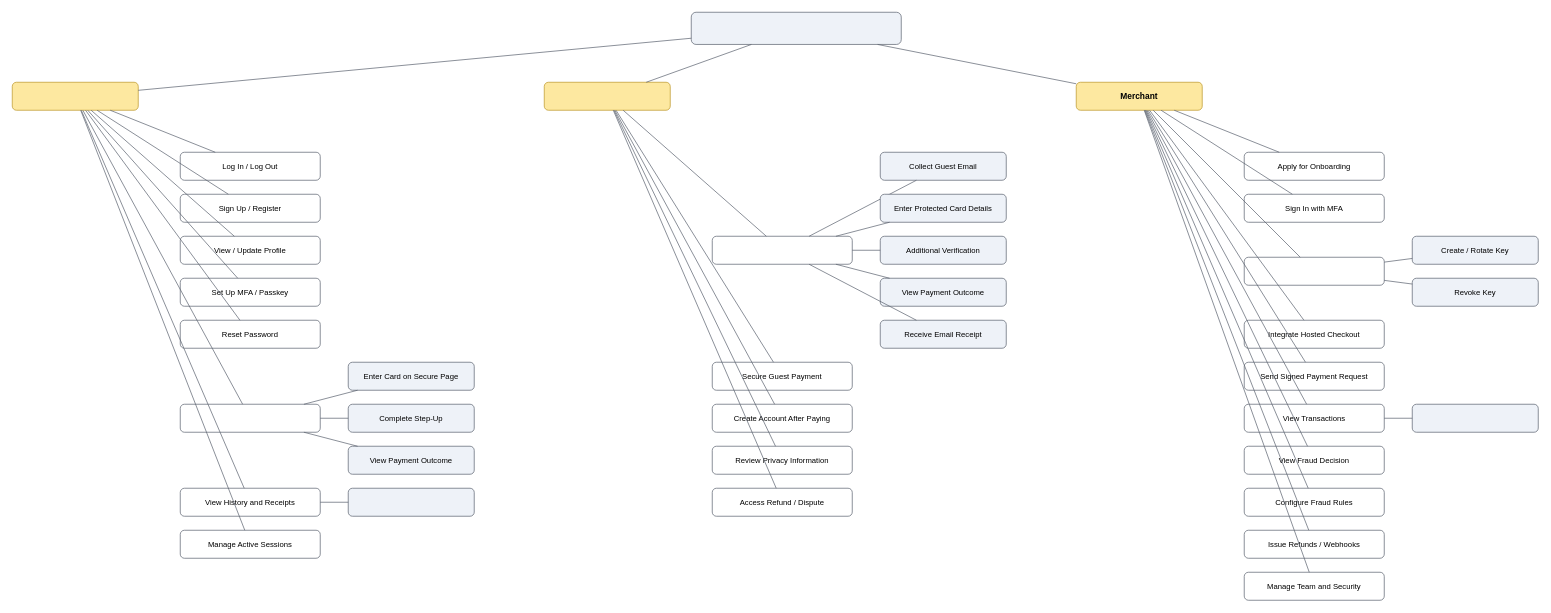
Some shapes in this 1551 by 613 pixel diagram are drawn without their labels. Each missing label, with the centre of its shape:
Customer: the point at 75,96
Guest: the point at 607,96
Guest Checkout: the point at 782,250
Manage API Keys: the point at 1314,271
Pay Through Hosted Checkout: the point at 250,418
Search / Filter: the point at 1475,418
Secure Online Payment Gateway: the point at 796,28
Verify Receipt: the point at 411,502
